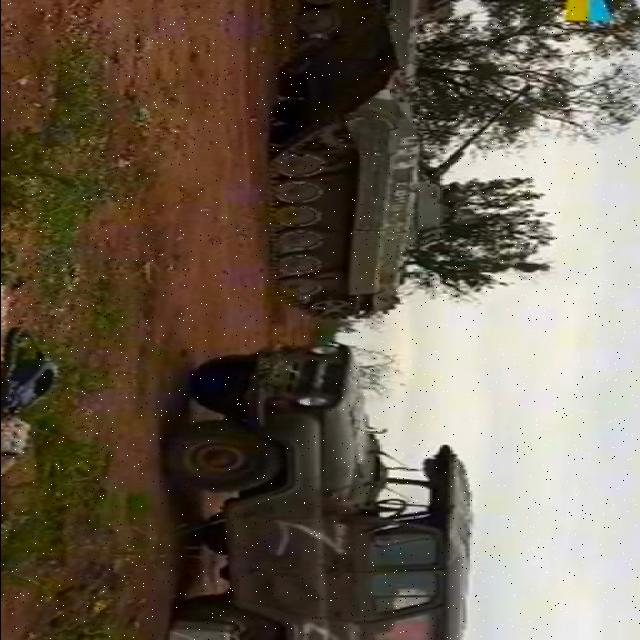APC-IFV: (280, 15, 536, 317)
CAR: (171, 340, 502, 639)
